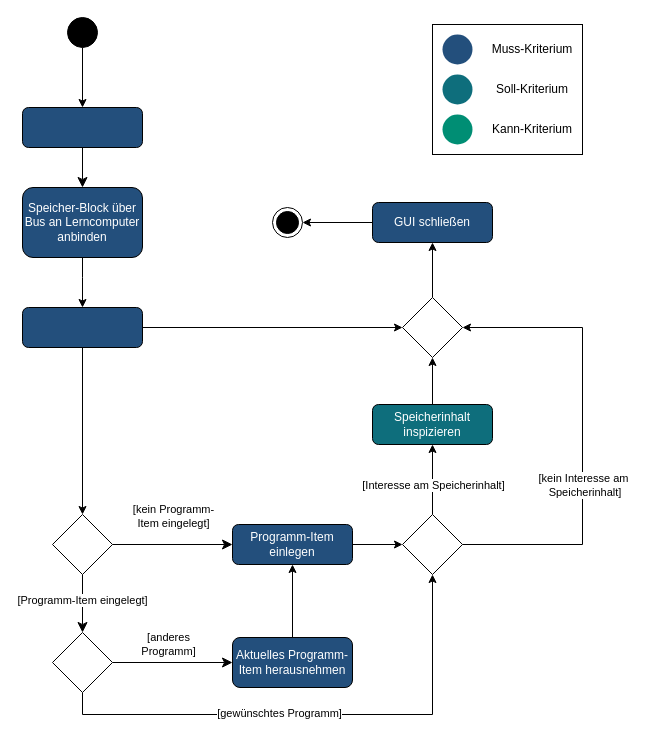
Image size: 645x740. Some labels were removed from this diagram. The box of each missing label's shape, as (x1, y1, x2, y2) in pixels:
GUI öffnen: (22, 306, 142, 348)
Speicher-Block bauen: (22, 106, 142, 148)
